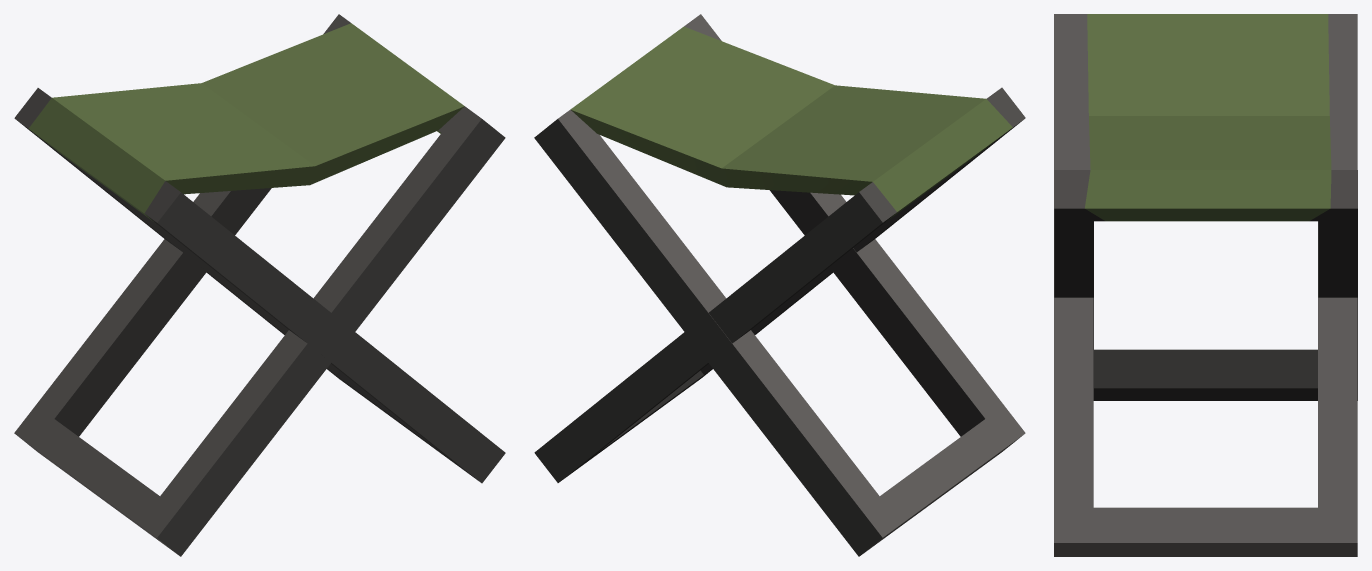
The model's file is SA_Prop_Campseat_01.glb.
3 renders of one model, left to right at view 1: azimuth 30°, elevation 25°; view 2: azimuth 150°, elevation 25°; view 3: azimuth 270°, elevation 25°, orthographic. The views are drawn at different scales.
Visible parts, largest first — view 1: SA_Prop_Campseat_01; view 2: SA_Prop_Campseat_01; view 3: SA_Prop_Campseat_01.
Part boxes in pixels (left/top/right/bottom): SA_Prop_Campseat_01: left=14, top=14, right=505, bottom=556; SA_Prop_Campseat_01: left=534, top=14, right=1025, bottom=556; SA_Prop_Campseat_01: left=1054, top=14, right=1357, bottom=556.
Size of the model in its own units: 0.4353 by 0.4353 by 0.3097.
1 material, 1 textured.
